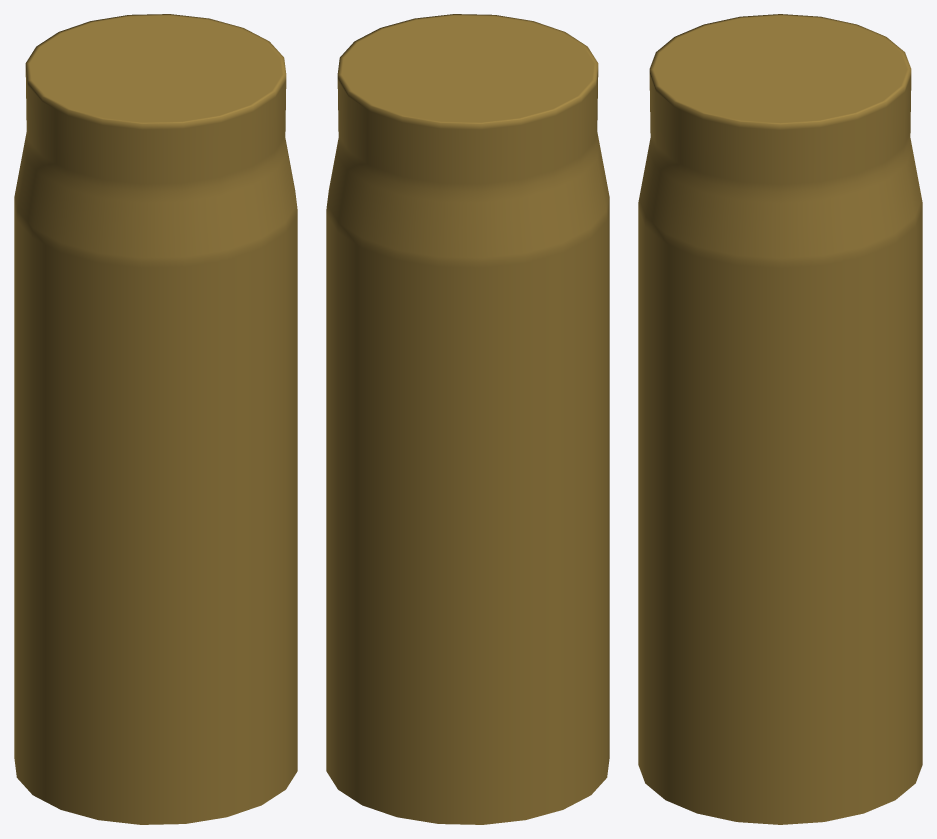
File: Shell.fbx
3 views of the same model, side by side, from view 1: azimuth 30°, elevation 25°; view 2: azimuth 150°, elevation 25°; view 3: azimuth 270°, elevation 25° (orthographic).
Visible parts, largest first — view 1: shell; view 2: shell; view 3: shell.
Boxes of the visible parts, <box> form: shell: <box>14,14,297,824</box>; shell: <box>326,14,609,824</box>; shell: <box>638,14,922,824</box>.
Size of the model in its own units: 0.4009 by 1.08 by 0.4009.
